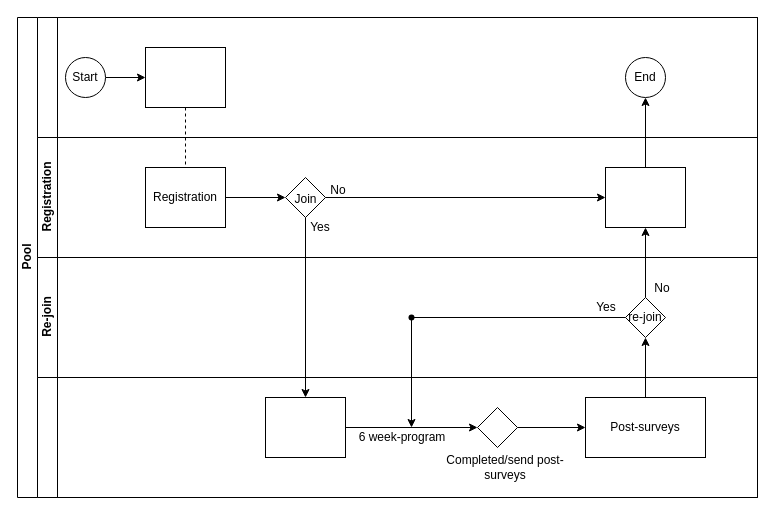
This 775x515 diagram has some shape labels left out. The box of each missing label's shape, as (x1, y1, x2, y2) in pixels:
Exit Form: (604, 166, 686, 228)
Participant List: (144, 46, 226, 108)
Pre-surveys: (264, 396, 346, 458)
Session: (36, 376, 758, 498)
